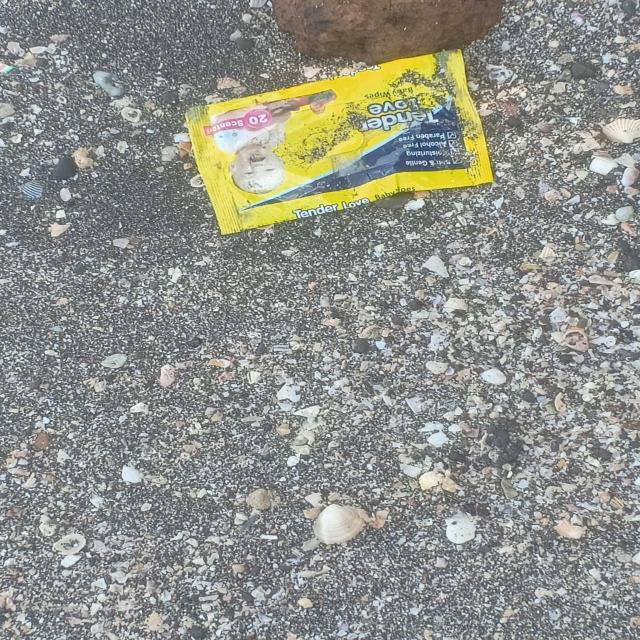plastic_waste: (186, 51, 494, 238)
